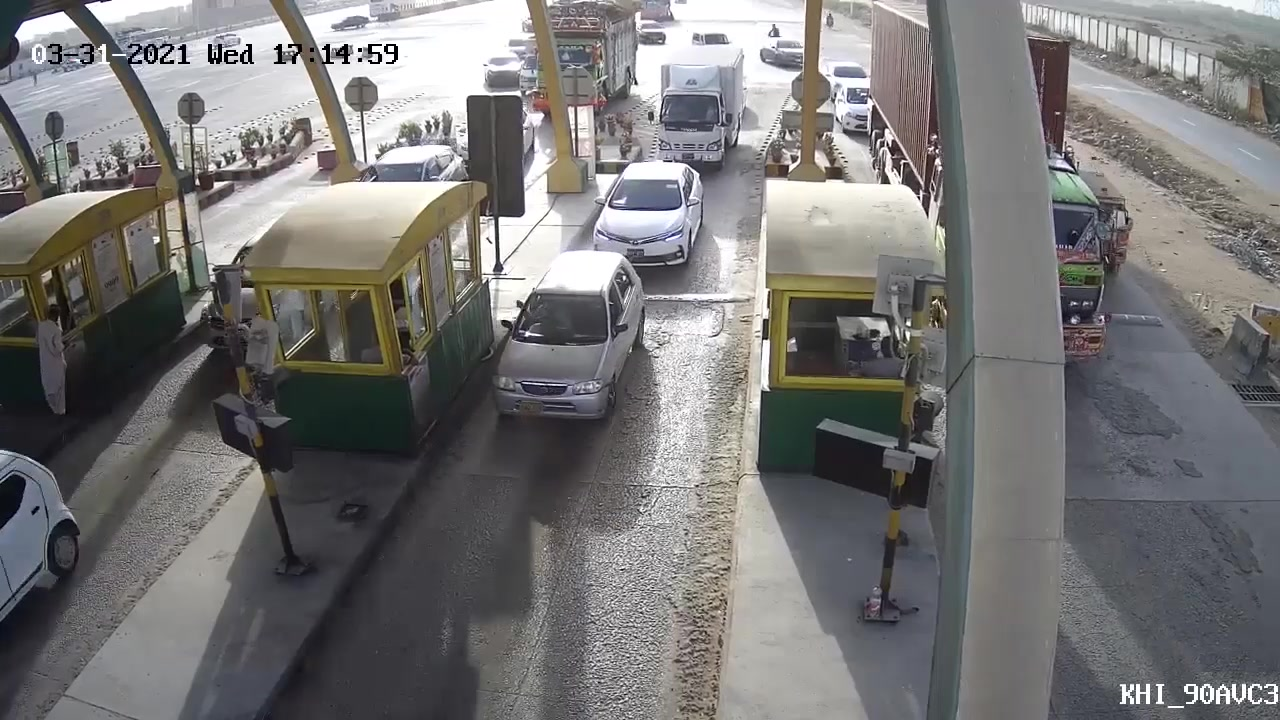F1: (485, 251, 649, 433), (580, 158, 710, 272)
